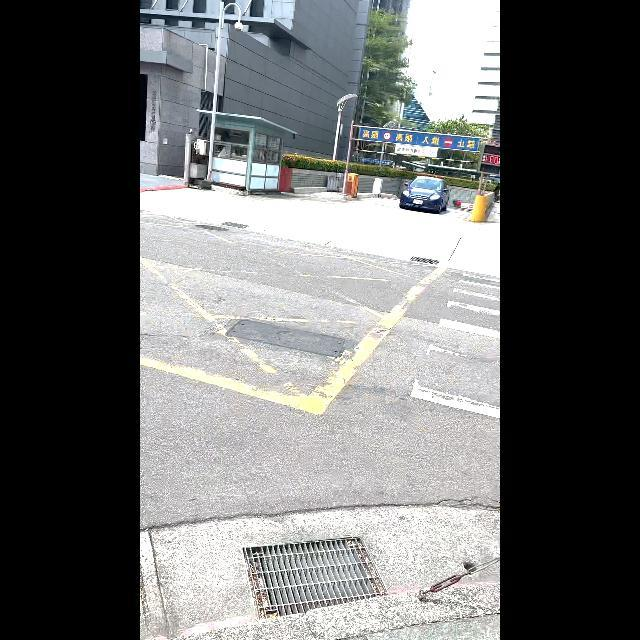sidewalk: (386, 275, 500, 449)
